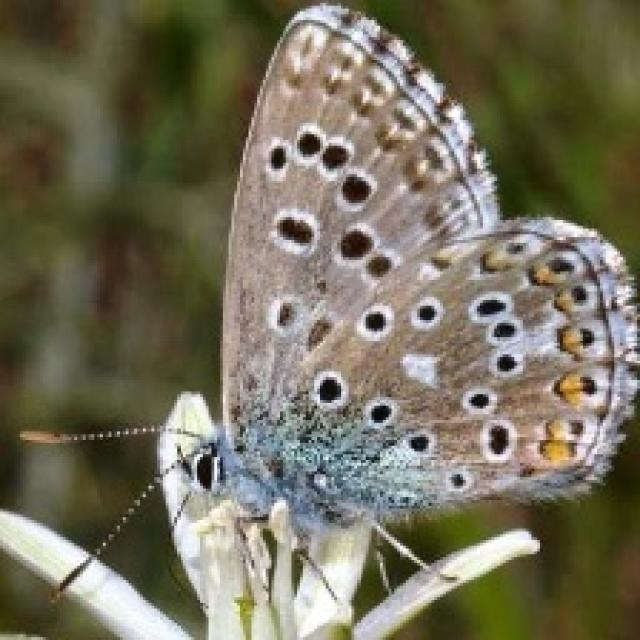butterfly: (17, 0, 637, 614)
